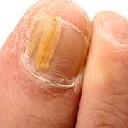Nail Fungal Infection: (23, 15, 63, 74)
